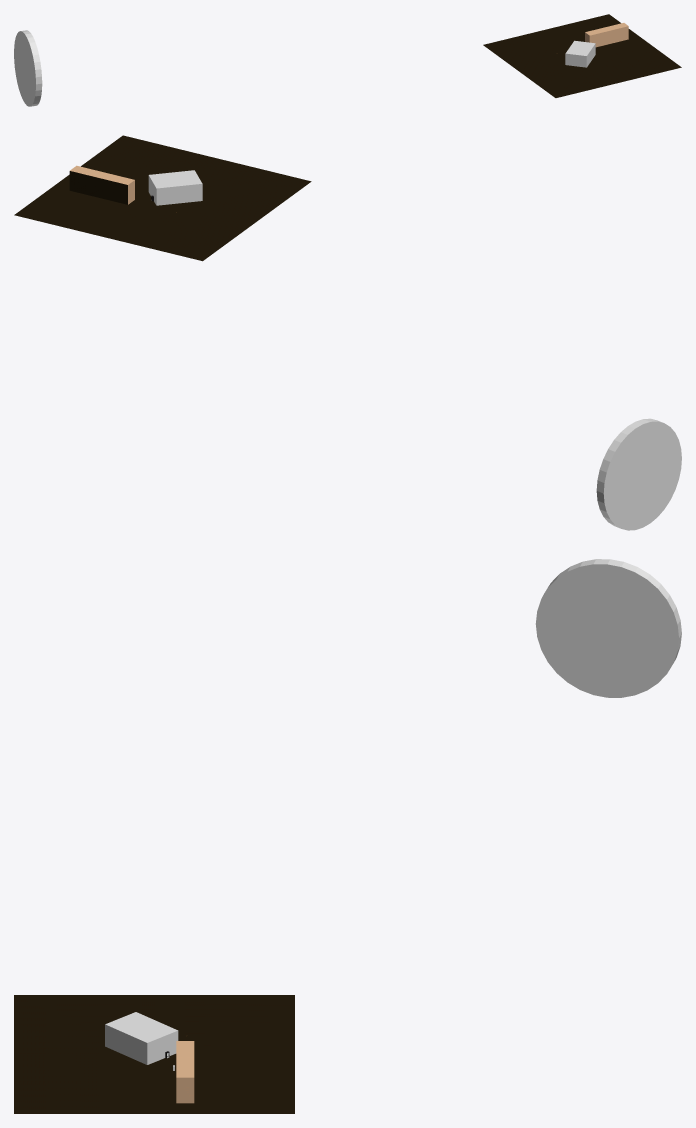
3 views of the same model, one above another, from view 1: azimuth 30°, elevation 25°; view 2: azimuth 150°, elevation 25°; view 3: azimuth 270°, elevation 25° (orthographic). The views are drawn at different scales.
Parts seen in each view (by area): view 1: Plane, Circle.008, Cube; view 2: Plane, Circle.008; view 3: Plane, Circle.008, Cube.
Part boxes in pixels (bbox=[...]): Plane: bbox=[483, 14, 681, 97]; Circle.008: bbox=[14, 30, 595, 106]; Cube: bbox=[585, 23, 628, 47]; Plane: bbox=[14, 135, 311, 261]; Circle.008: bbox=[148, 170, 681, 530]; Plane: bbox=[14, 995, 294, 1113]; Circle.008: bbox=[105, 559, 681, 1070]; Cube: bbox=[176, 1041, 194, 1103].
Size of the model in its own units: 748 by 97.01 by 440.
9 materials, 9 textured.
